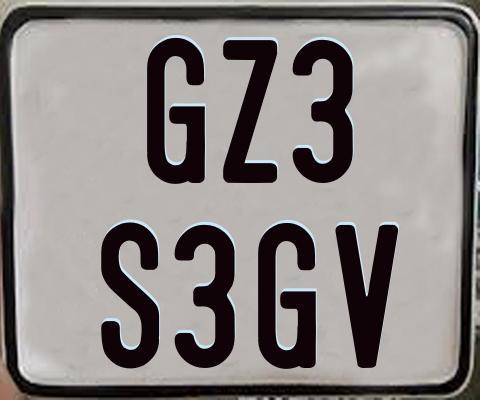3: (174, 222, 238, 365), (290, 40, 351, 183)
G: (255, 221, 319, 371), (146, 37, 208, 186)
S: (100, 219, 162, 366)
V: (333, 223, 401, 367)
Z: (222, 39, 277, 187)
